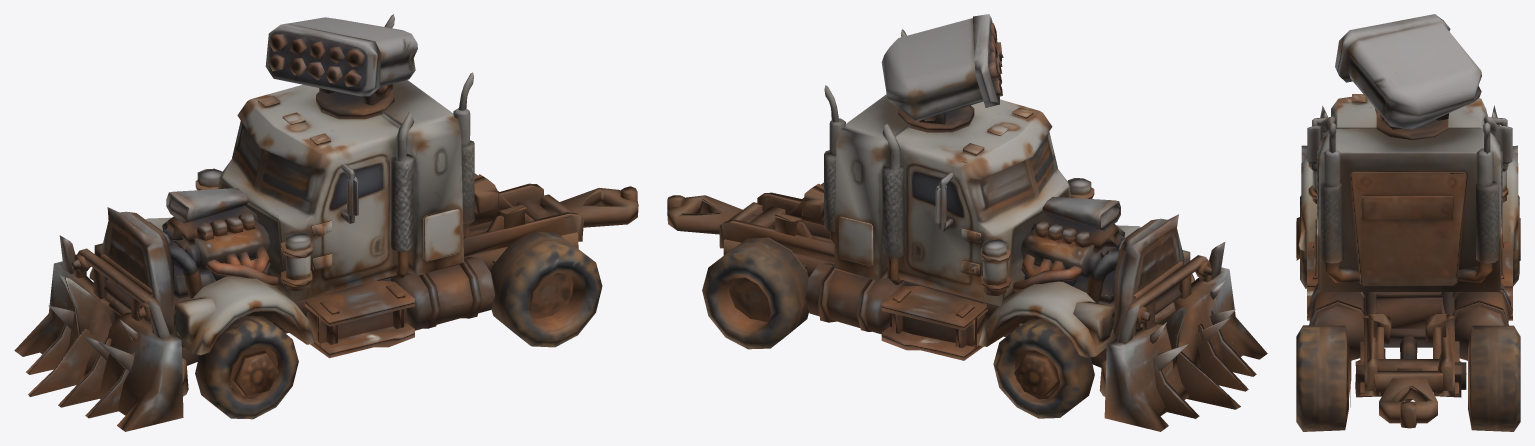
File: big_rig_front.glb
3 views of the same model, side by side, from view 1: azimuth 30°, elevation 25°; view 2: azimuth 150°, elevation 25°; view 3: azimuth 270°, elevation 25° (orthographic). The views are drawn at different scales.
Parts seen in each view (by area): view 1: geometry_0; view 2: geometry_0; view 3: geometry_0.
Part boxes in pixels (x1,y1,x2,y2): geometry_0: [14, 14, 638, 431]; geometry_0: [667, 14, 1267, 431]; geometry_0: [1296, 14, 1520, 431].
Bounding box in the file's own units: 0.9614 × 0.5005 × 0.3198.
Materials: 1 (1 with a texture image).
